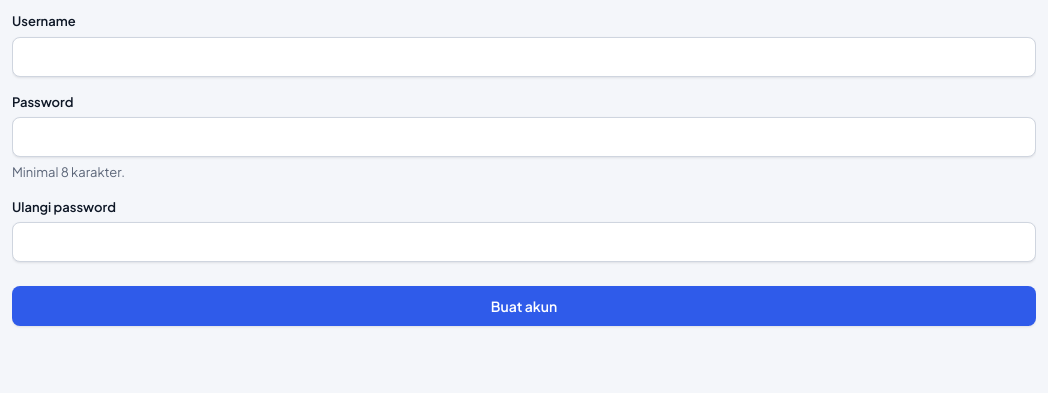
Test case: RegisterForm › requires a password of at least 8 characters
The image size is (1048, 393).
Type "short" into the password field labelled "Password". click: (524, 137)
box: [12,117,1036,157]
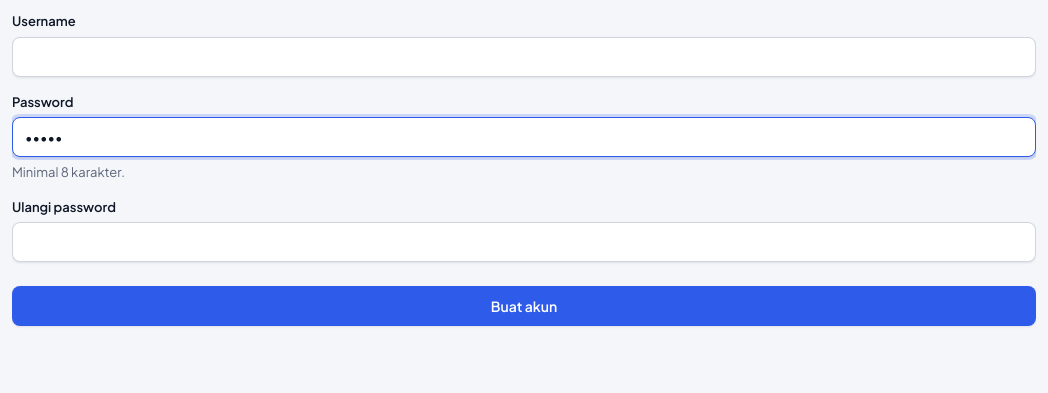
Click the button "Buat akun". click: (524, 306)
box: [12,286,1036,326]
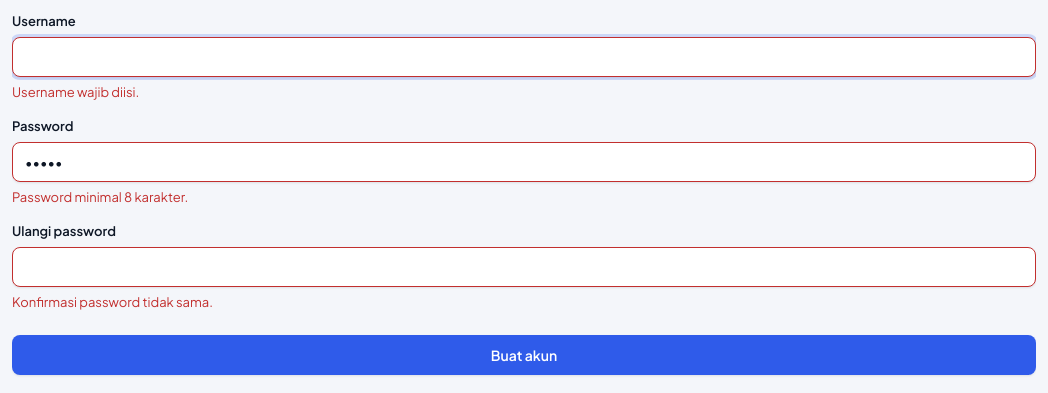
Result: the text "Password minimal 8 karakter." is shown at [12,189,188,205]
